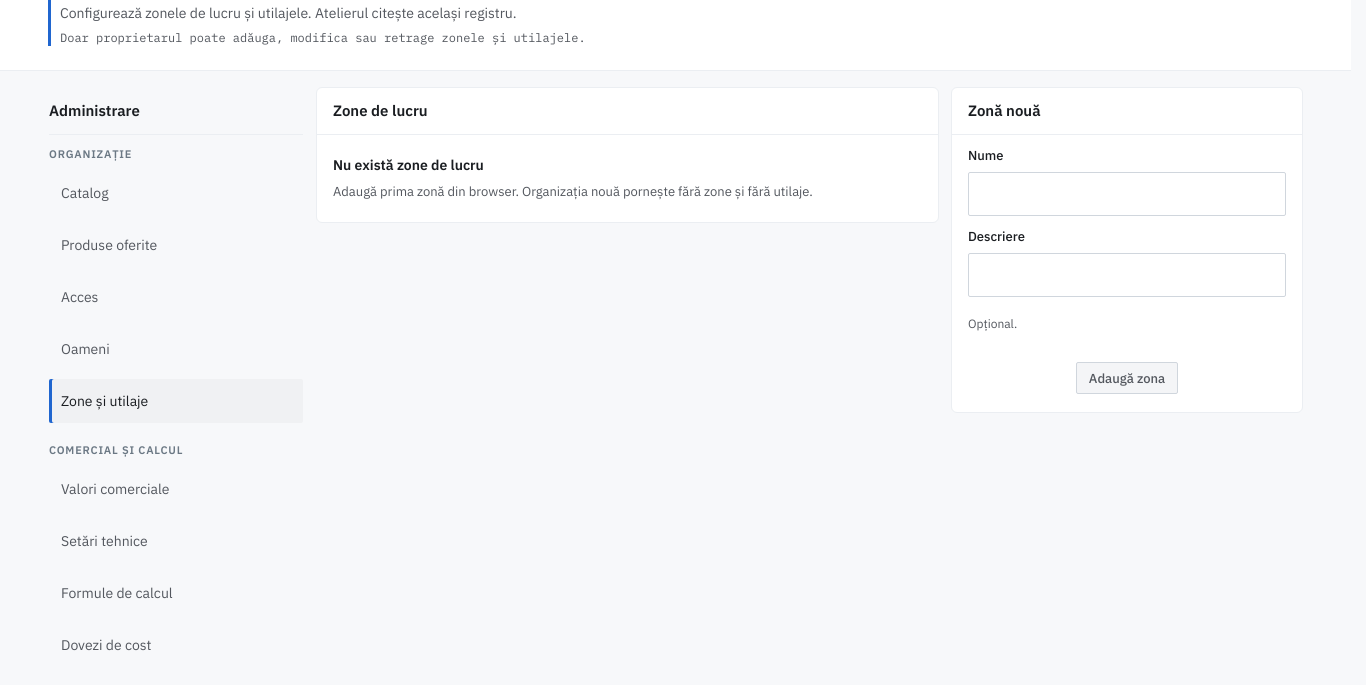
Test: WorkcentersAdminPage › creates a workcenter and a machine, then assigns CNC coverage
Expected: the text "Nu există zone de lucru" is shown, [333,155,484,175]
Type "Zonă CNC" into the field labelled "Nume" at (1127, 194), box [968,172,1286,216]
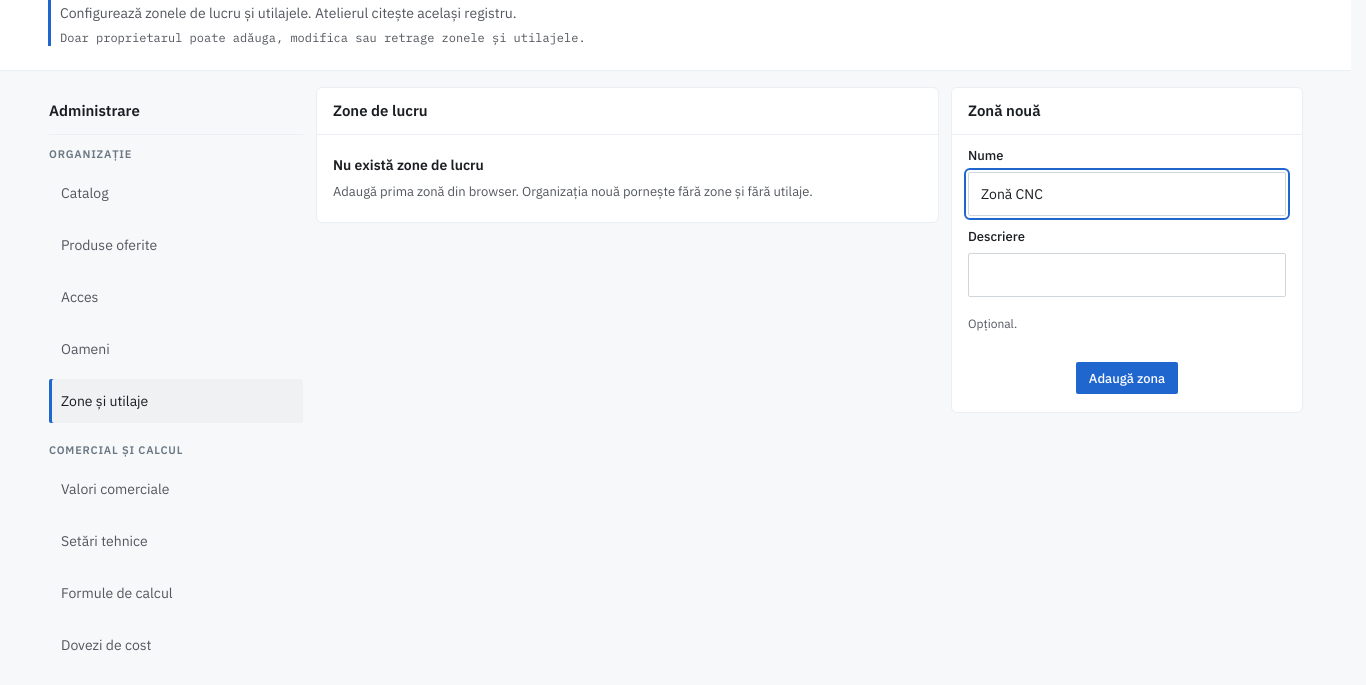
Click the button "Adaugă zona" at (1127, 378), box [968,356,1286,400]
(page scrolled)
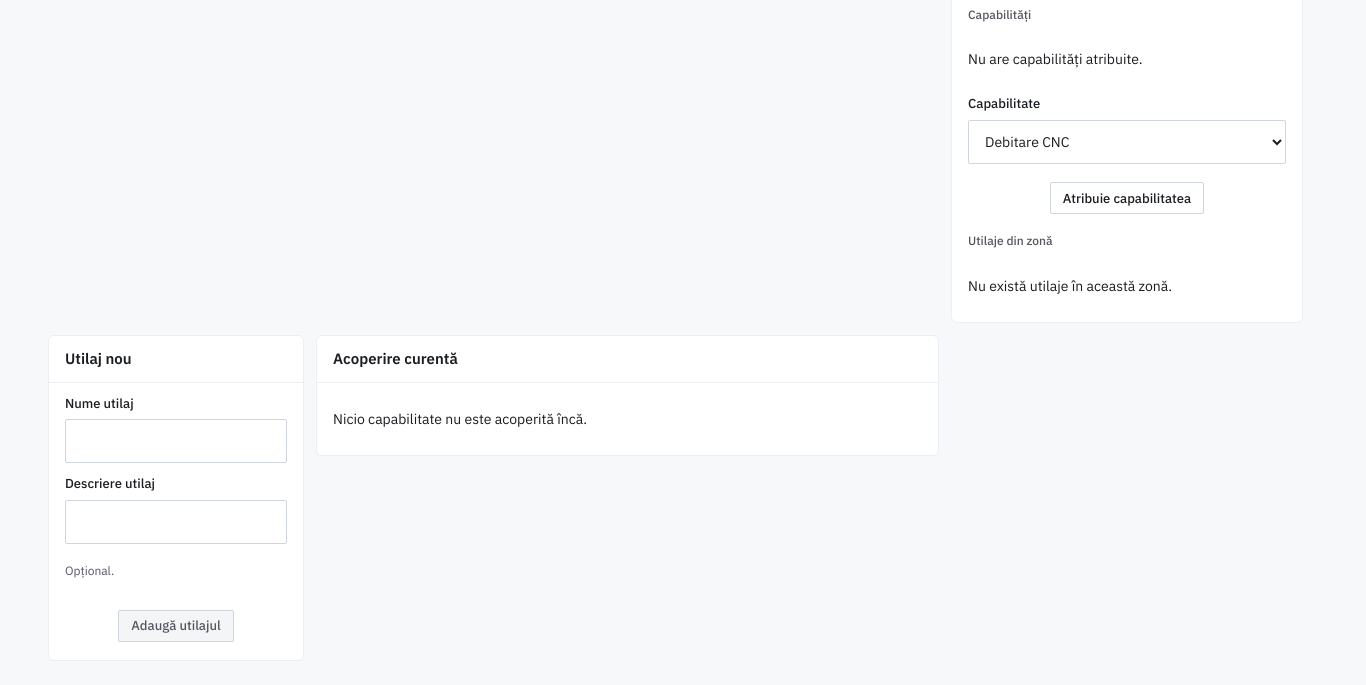
Type "Router CNC" into the field labelled "Nume utilaj" at (176, 441), box [65,419,287,463]
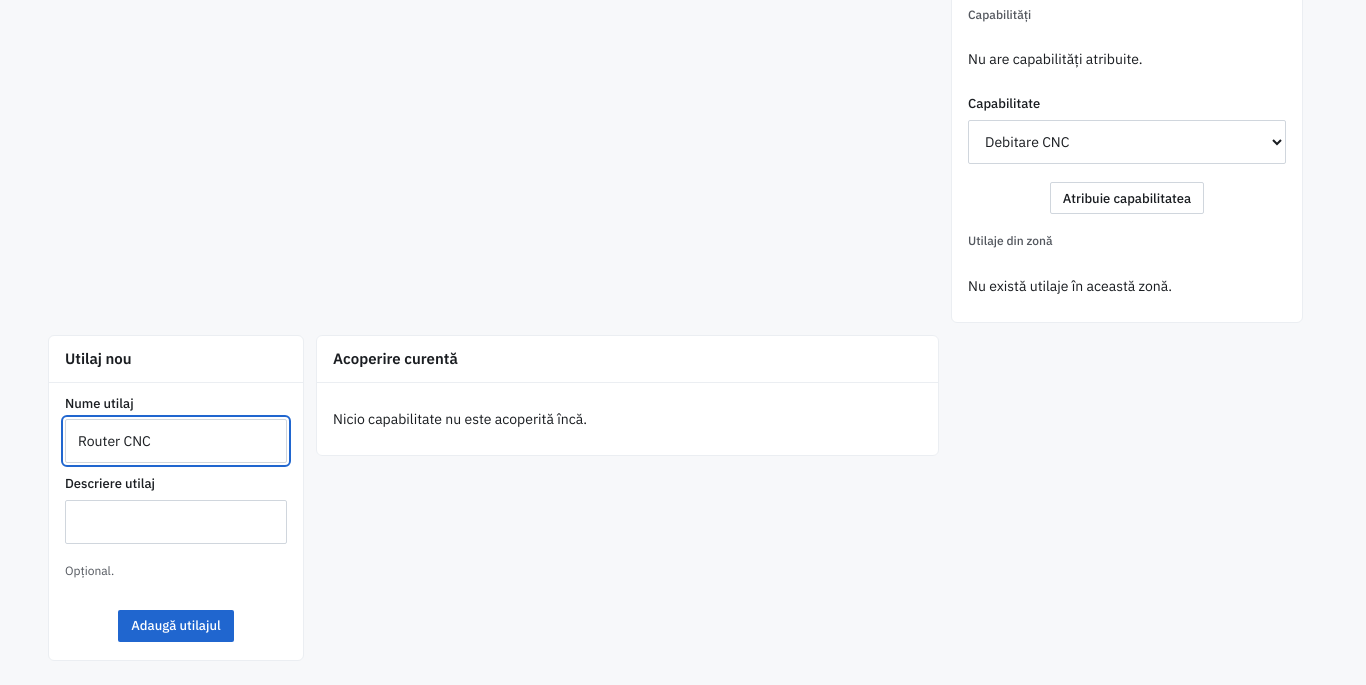
Click the button "Adaugă utilajul" at (176, 626), box [65,604,287,648]
(page scrolled)
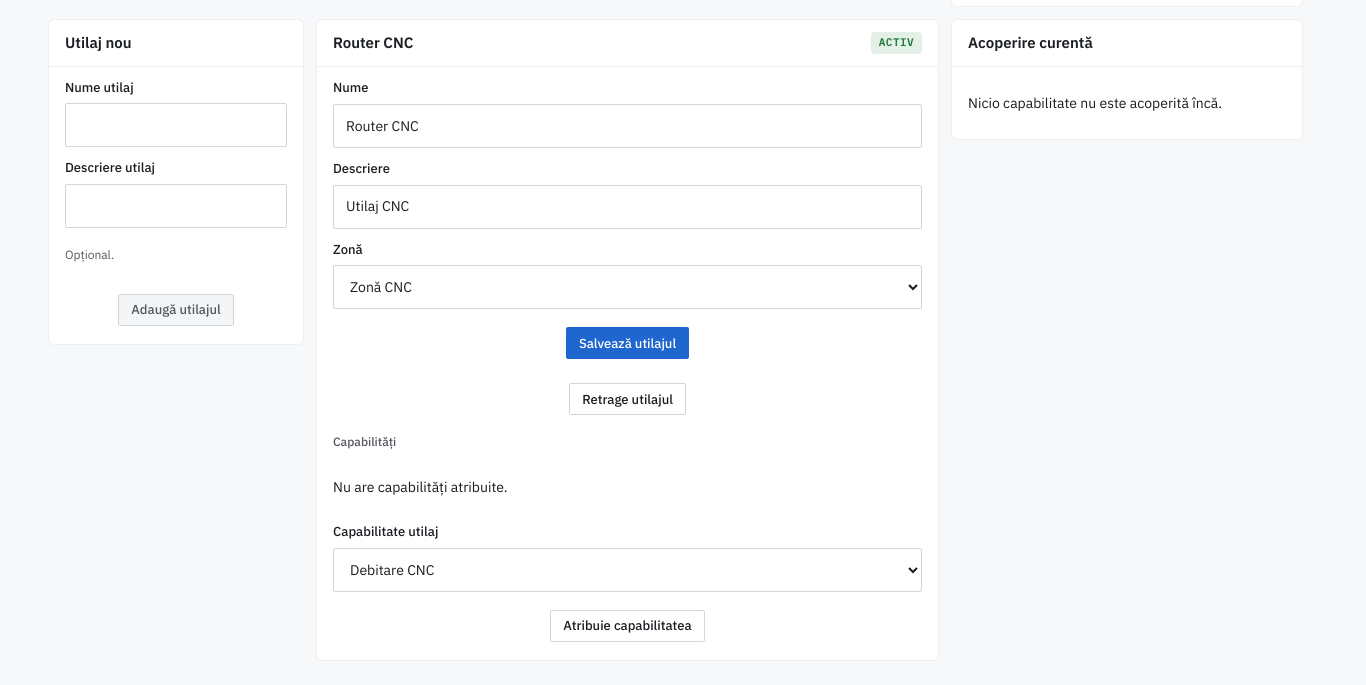
Select "Debitare CNC" in the dropdown labelled "Capabilitate utilaj" at (628, 570), box [333,548,922,592]
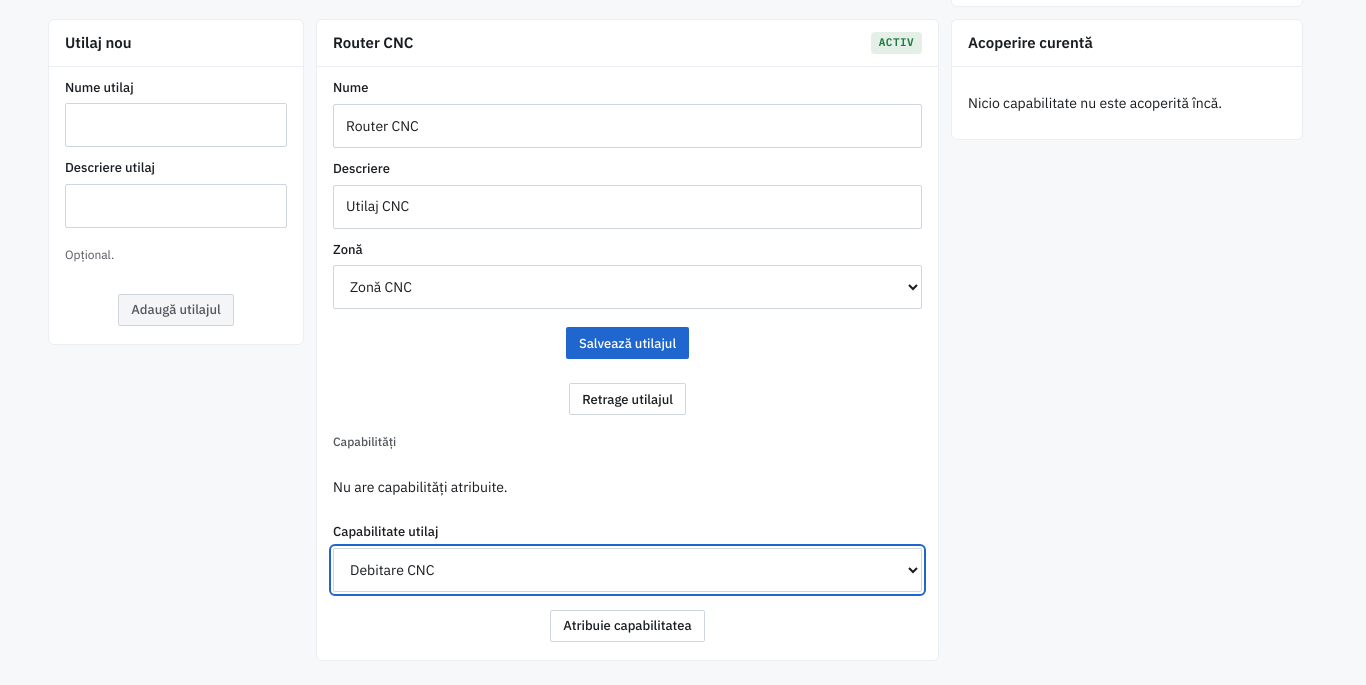
Click the button "Atribuie capabilitatea" at (628, 626), box [333,604,922,648]
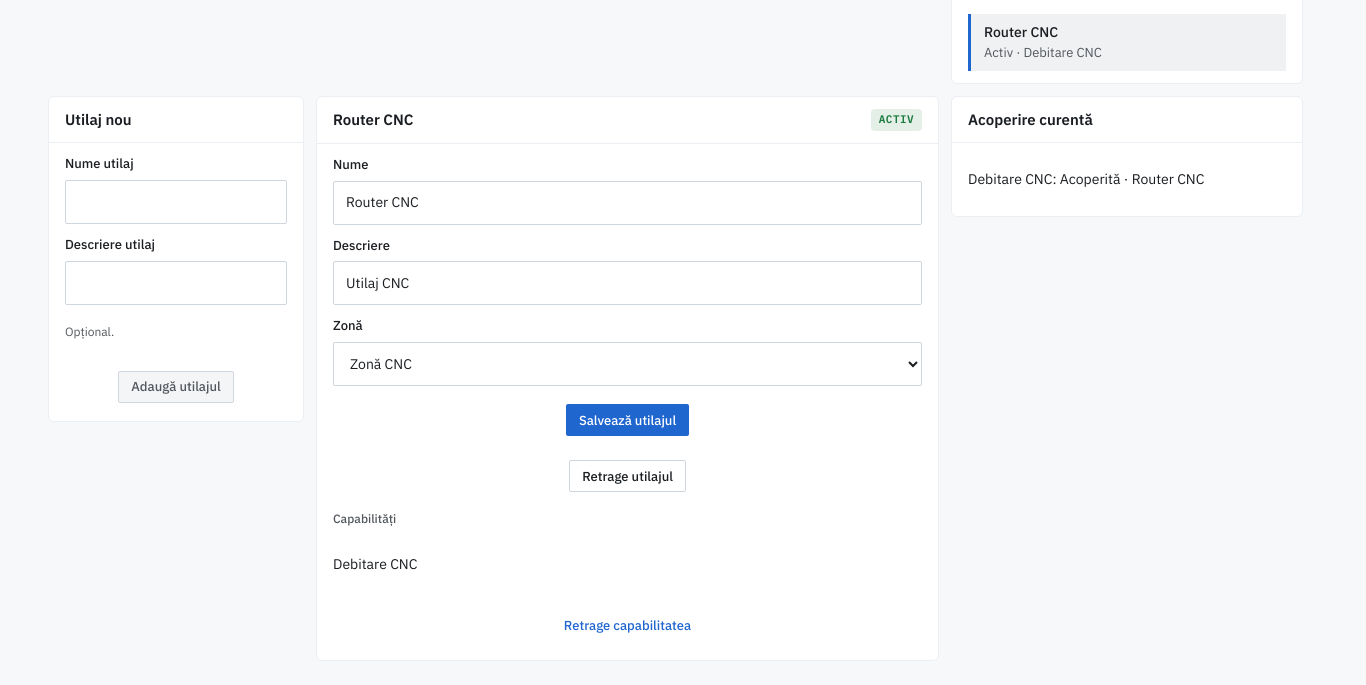
Result: the text "Debitare CNC: Acoperită · Router CNC" is shown at [968,170,1204,188]
